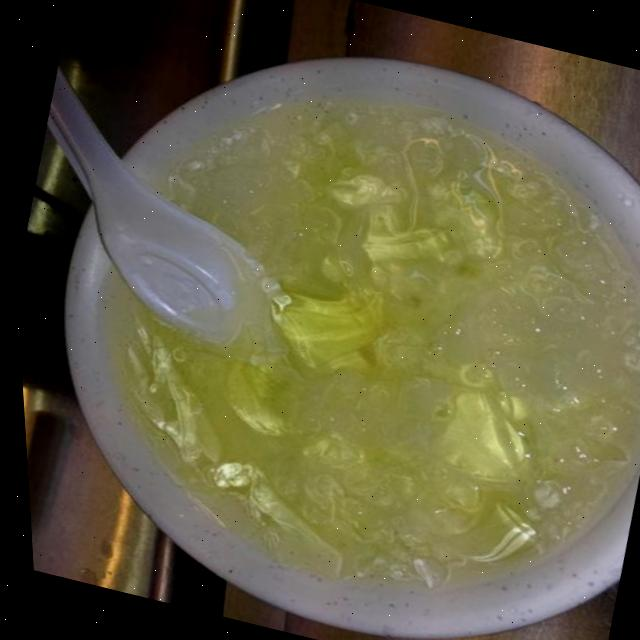蛋糕甜品: (11, 22, 640, 640)
